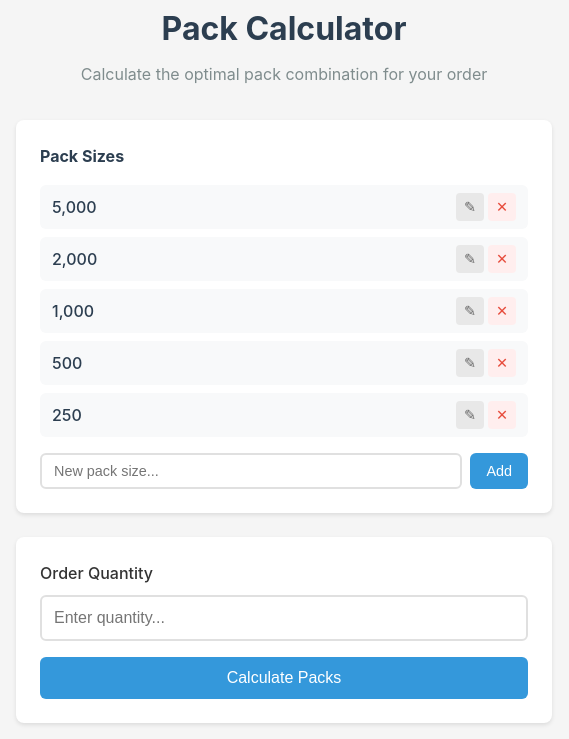
Scenario: App › shows error when calculation fails
Expected: the text "5,000" is shown, 52,195 -> 97,220
Type "501" into the number field labelled "Order Quantity" at (284, 618), box 40,595 -> 528,641
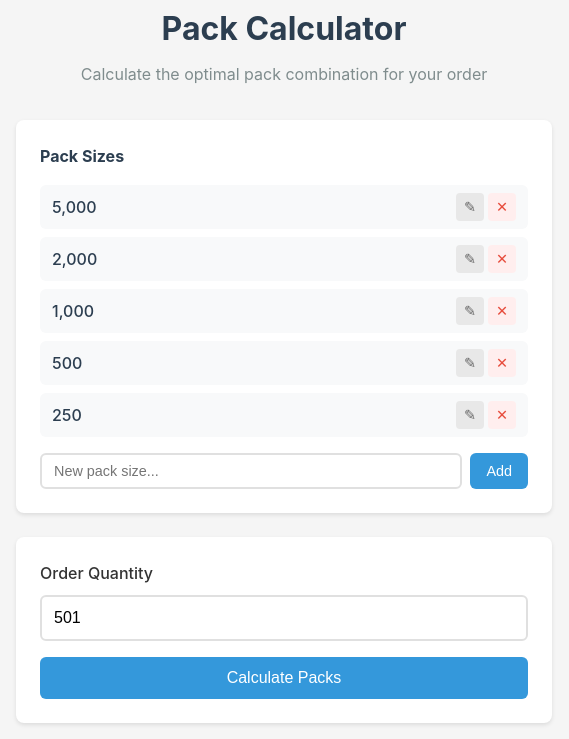
Click the button "Calculate Packs" at (284, 678), box 40,657 -> 528,699
(page scrolled)
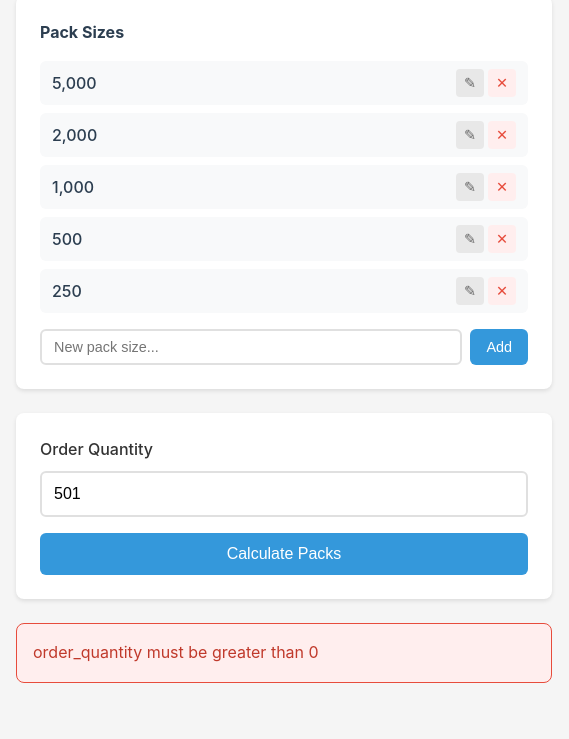
Expected: the message reads "order_quantity must be greater than 0", 33,642 -> 319,662
